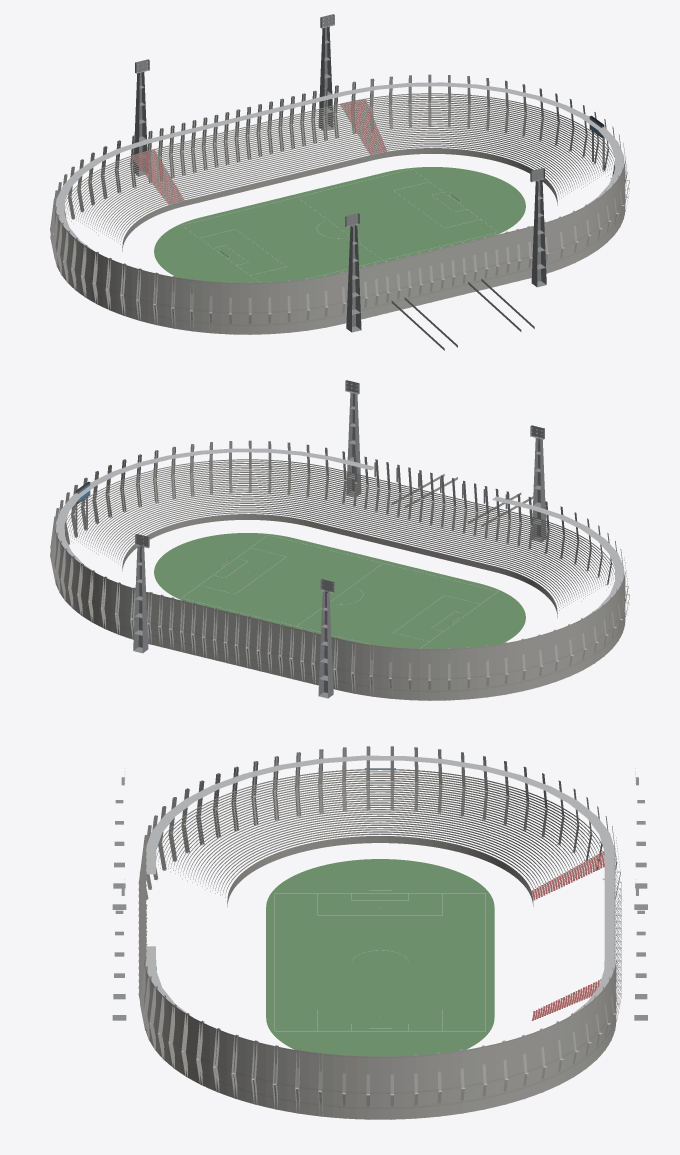
Rendered from asis_v1.glb.
3 views of the same model, one above another, from view 1: azimuth 30°, elevation 25°; view 2: azimuth 150°, elevation 25°; view 3: azimuth 270°, elevation 25° (orthographic). The views are drawn at different scales.
Visible parts, largest first — view 1: field, bowl_rake, facade_wall, facade_ribs, masts, press_box, facade_bands, bowl_front, seats_red, field_lines, ramps; view 2: field, bowl_rake, facade_wall, facade_ribs, masts, press_box, facade_bands, bowl_front, field_lines; view 3: field, facade_wall, bowl_rake, facade_ribs, press_box, facade_bands, bowl_front, seats_red, masts, field_lines.
Part boxes in pixels (x1,y1,x2,y2): field: [154, 167, 525, 282]; bowl_rake: [64, 93, 614, 244]; facade_wall: [54, 161, 625, 334]; facade_ribs: [50, 74, 629, 334]; masts: [134, 14, 546, 332]; press_box: [56, 82, 624, 250]; facade_bands: [54, 160, 625, 326]; bowl_front: [122, 148, 557, 251]; seats_red: [131, 99, 386, 204]; field_lines: [182, 169, 497, 282]; ramps: [391, 278, 534, 350]; field: [154, 533, 525, 648]; bowl_rake: [65, 459, 614, 610]; facade_wall: [54, 527, 625, 700]; facade_ribs: [50, 440, 629, 700]; masts: [133, 380, 546, 698]; press_box: [56, 448, 624, 616]; facade_bands: [54, 526, 625, 692]; bowl_front: [122, 514, 557, 617]; field_lines: [182, 535, 497, 648]; field: [266, 859, 494, 1056]; facade_wall: [144, 960, 616, 1119]; bowl_rake: [156, 769, 604, 897]; facade_ribs: [138, 746, 621, 1119]; press_box: [145, 755, 615, 1016]; facade_bands: [144, 960, 616, 1109]; bowl_front: [227, 836, 533, 906]; seats_red: [531, 851, 604, 1020]; masts: [112, 768, 647, 1020]; field_lines: [274, 893, 485, 1031].
Size of the model in its own units: 269 by 50.07 by 210.
